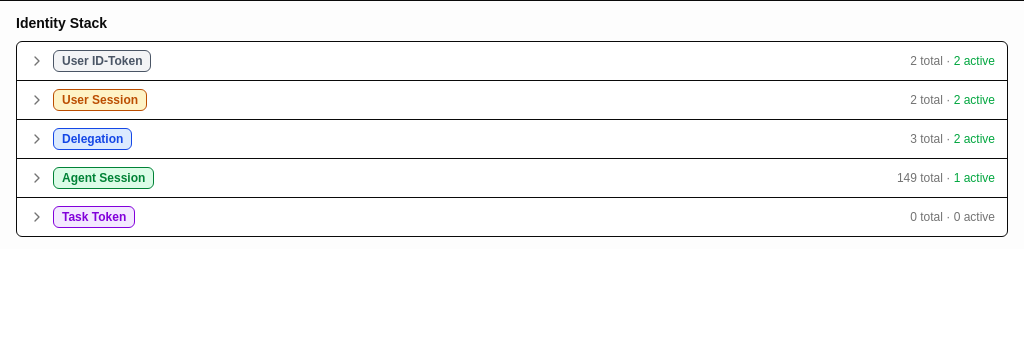
IdentityStackPanel › Agent Session renders session ID, delegator, delegation ID, and status
This screenshot has width=1024, height=361.
Click the text "Agent Session" at (104, 178), box top-left (53, 167), bottom-right (154, 189)
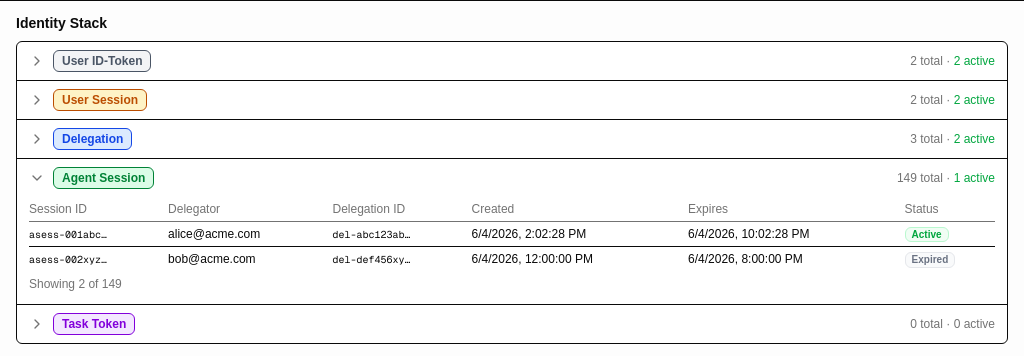
Expected: the text "asess-001abc…" is shown, top-left (29, 222), bottom-right (168, 247)
Expected: the text "alice@acme.com" is shown, top-left (168, 222), bottom-right (332, 247)
Expected: the text "del-abc123ab…" is shown, top-left (332, 222), bottom-right (472, 247)
